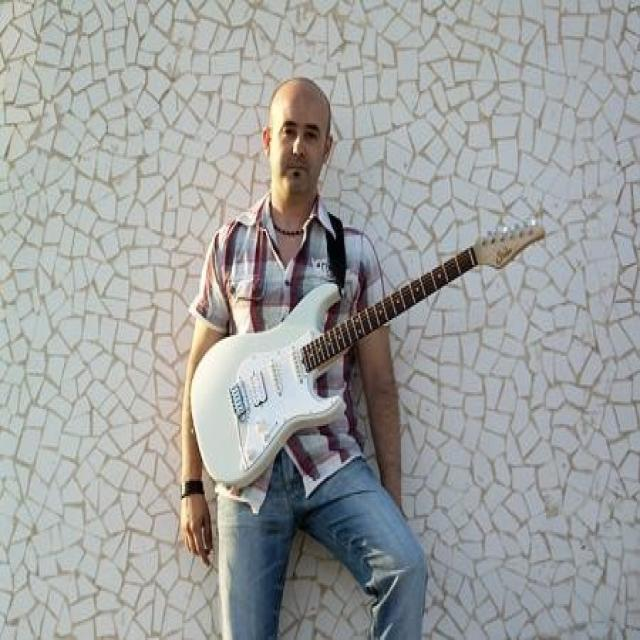guitar: (189, 218, 546, 492)
